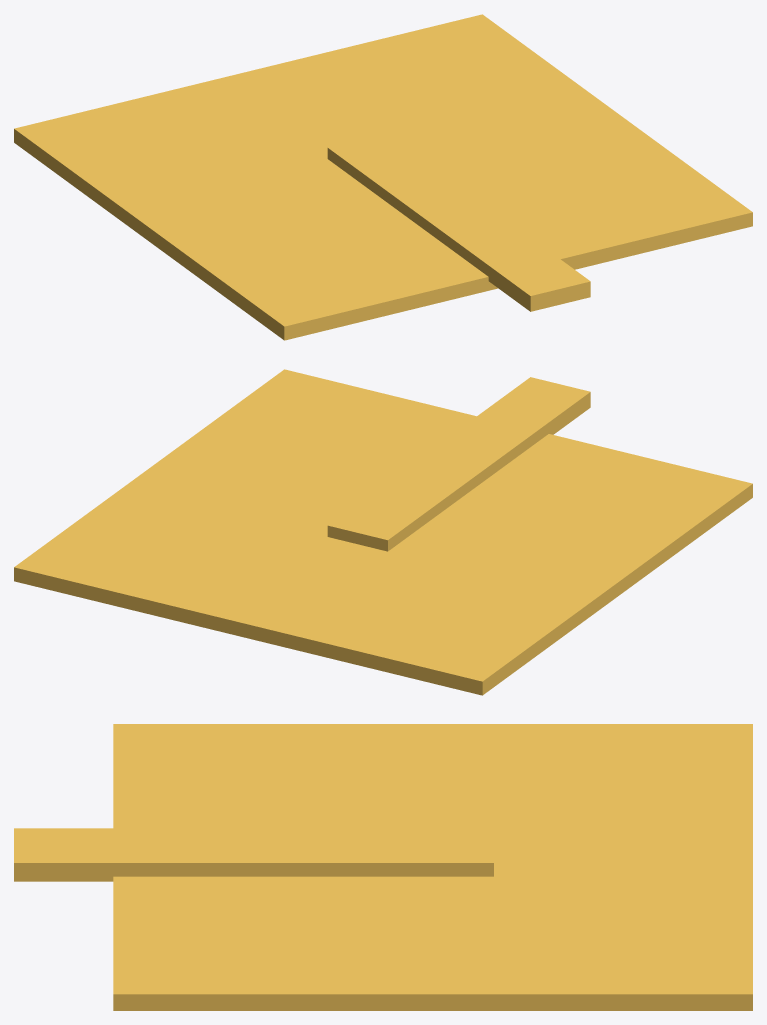
Rendered from marker.trigger_volume.glb.
The picture shows the model from 3 angles, top to bottom: view 1: azimuth 30°, elevation 25°; view 2: azimuth 150°, elevation 25°; view 3: azimuth 270°, elevation 25°; orthographic projection. The views are drawn at different scales.
Visible parts, largest first — view 1: marker_disc, facing_tick; view 2: marker_disc, facing_tick; view 3: marker_disc, facing_tick.
Boxes of the visible parts, x1=… form: marker_disc: x1=14, y1=14, x2=752, y2=340; facing_tick: x1=327, y1=133, x2=590, y2=311; marker_disc: x1=14, y1=369, x2=752, y2=695; facing_tick: x1=327, y1=377, x2=590, y2=551; marker_disc: x1=113, y1=724, x2=752, y2=1010; facing_tick: x1=14, y1=828, x2=493, y2=881.
Bounding box in the file's own units: 1.4 × 0.0725 × 1.62.
